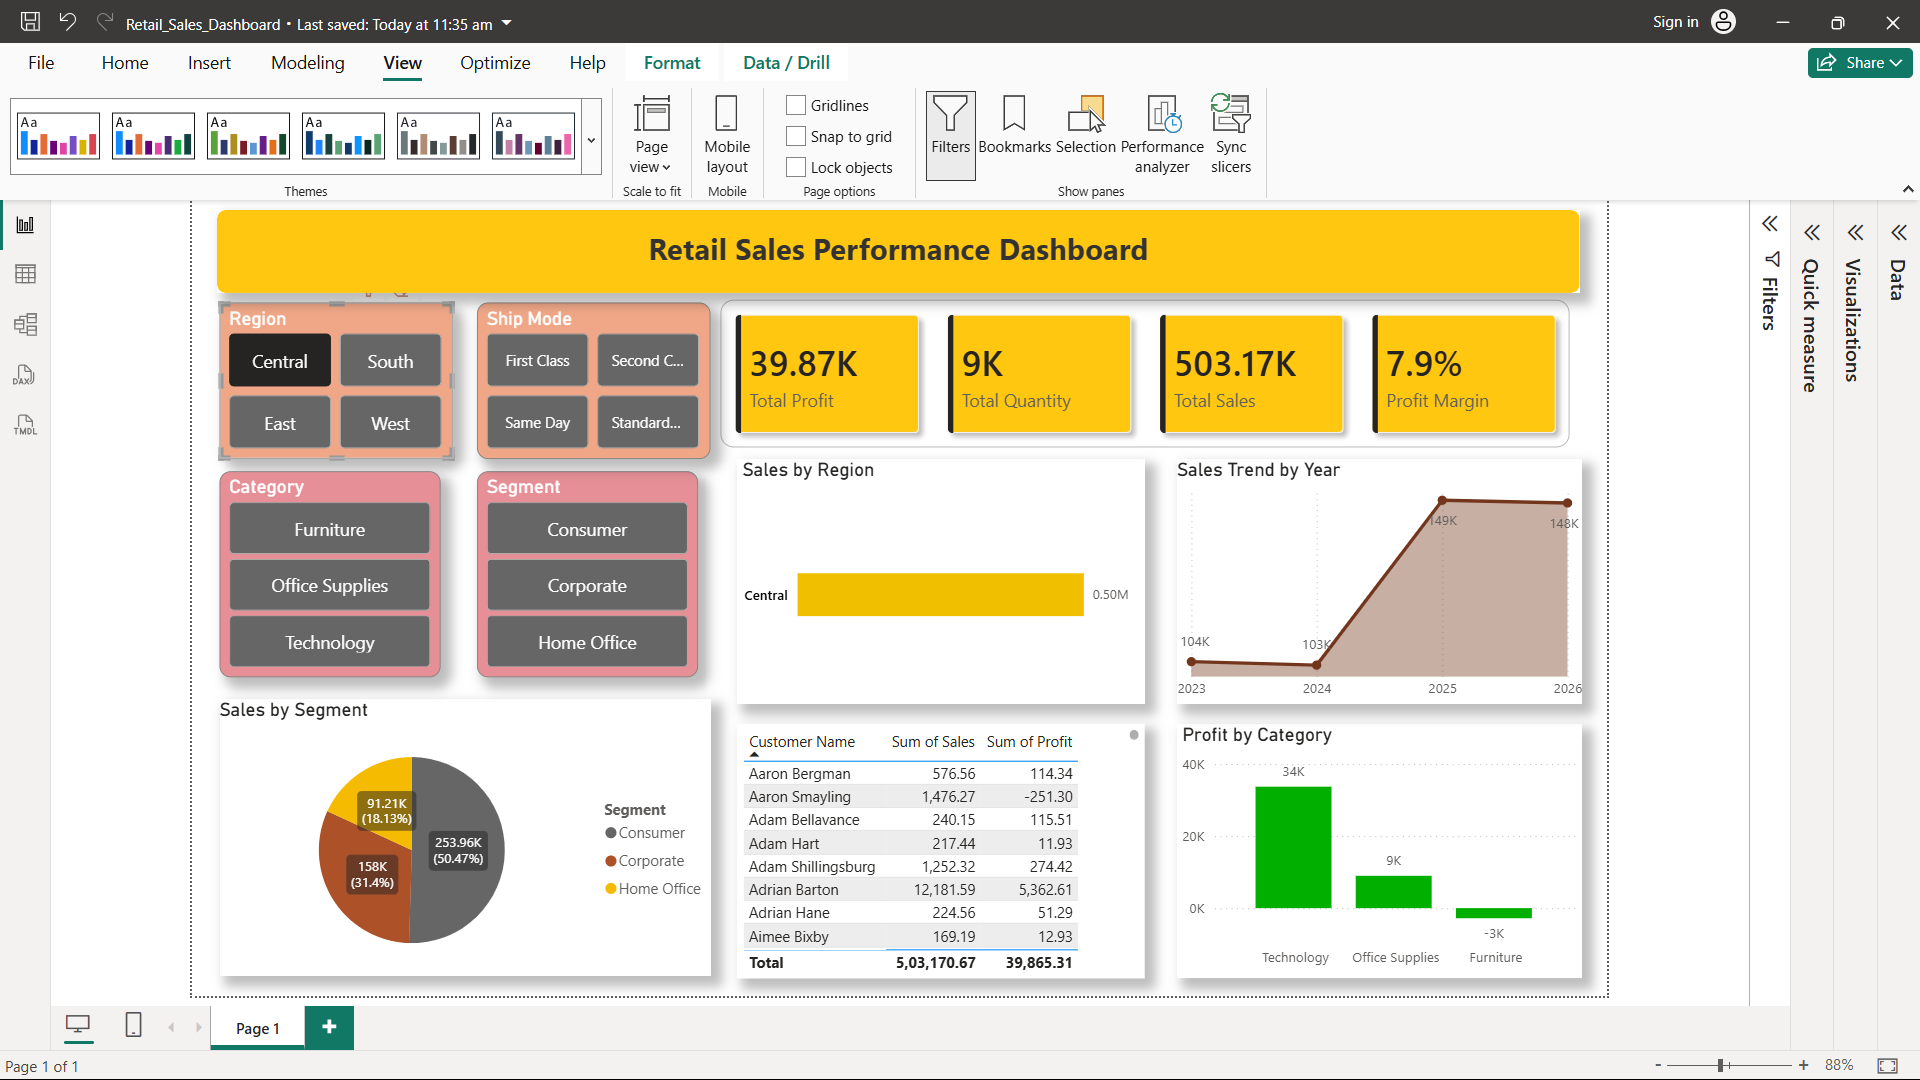

The dashboard page shown, as its layout file describes it:
{"tool":"powerbi","page":{"name":"Page 1","canvas":[1280,720],"ordinal":0},"visuals":[{"type":"cardVisual","fields":{"Data":["samplesuperstore.Total Profit","samplesuperstore.Total Quantity","samplesuperstore.Total Sales","samplesuperstore.Profit Margin"]},"box":[467.9,28.8,783.5,164.7],"z":0},{"type":"barChart","fields":{"Y":["Sum(samplesuperstore.Sales)"],"Category":["samplesuperstore.Region"]},"box":[503.5,203.5,347.7,229.1],"z":1000},{"type":"clusteredColumnChart","fields":{"Category":["samplesuperstore.Category"],"Y":["Sum(samplesuperstore.Profit)"]},"box":[889.2,446,366.4,244.3],"z":2000},{"type":"pieChart","fields":{"Category":["samplesuperstore.Segment"],"Y":["Sum(samplesuperstore.Sales)"]},"box":[22.1,400,445.4,296.5],"z":3000},{"type":"tableEx","fields":{"Values":["samplesuperstore.Customer Name","Sum(samplesuperstore.Sales)","Sum(samplesuperstore.Profit)"]},"box":[491.3,446,369.1,252.5],"z":4000},{"type":"lineChart","fields":{"Category":["samplesuperstore.Order Date.Variation.Date Hierarchy.Year","samplesuperstore.Order Date.Variation.Date Hierarchy.Quarter","samplesuperstore.Order Date.Variation.Date Hierarchy.Month","samplesuperstore.Order Date.Variation.Date Hierarchy.Day"],"Y":["Sum(samplesuperstore.Sales)"]},"box":[889.5,203.5,366.3,222.1],"z":5000},{"type":"advancedSlicerVisual","fields":{"Values":["samplesuperstore.Region"]},"box":[22.1,30.2,211.6,140.7],"z":6000},{"type":"advancedSlicerVisual","fields":{"Values":["samplesuperstore.Segment"]},"box":[255.8,194.2,200,186],"z":7000},{"type":"advancedSlicerVisual","fields":{"Values":["samplesuperstore.Category"]},"box":[33.7,194.2,200,186],"z":8000},{"type":"advancedSlicerVisual","fields":{"Values":["samplesuperstore.Ship Mode"]},"box":[255.8,29.1,211.6,140.7],"z":9000}]}

Visuals, with their boxes on the page's 1280x720 design canvas (x1, y1, x2, y2). These are canvas units, not pixel positions in the 1920x1080 screenshot, which may show the page scaled, cropped or inside an application window:
cardVisual - samplesuperstore.Total Profit x samplesuperstore.Total Quantity: x1=468 y1=29 x2=1251 y2=194
barChart - Sum(samplesuperstore.Sales) x samplesuperstore.Region: x1=504 y1=204 x2=851 y2=433
clusteredColumnChart - samplesuperstore.Category x Sum(samplesuperstore.Profit): x1=889 y1=446 x2=1256 y2=690
pieChart - samplesuperstore.Segment x Sum(samplesuperstore.Sales): x1=22 y1=400 x2=468 y2=696
tableEx - samplesuperstore.Customer Name x Sum(samplesuperstore.Sales): x1=491 y1=446 x2=860 y2=698
lineChart - samplesuperstore.Order Date.Variation.Date Hierarchy.Year x samplesuperstore.Order Date.Variation.Date Hierarchy.Quarter: x1=890 y1=204 x2=1256 y2=426
advancedSlicerVisual - samplesuperstore.Region: x1=22 y1=30 x2=234 y2=171
advancedSlicerVisual - samplesuperstore.Segment: x1=256 y1=194 x2=456 y2=380
advancedSlicerVisual - samplesuperstore.Category: x1=34 y1=194 x2=234 y2=380
advancedSlicerVisual - samplesuperstore.Ship Mode: x1=256 y1=29 x2=467 y2=170
